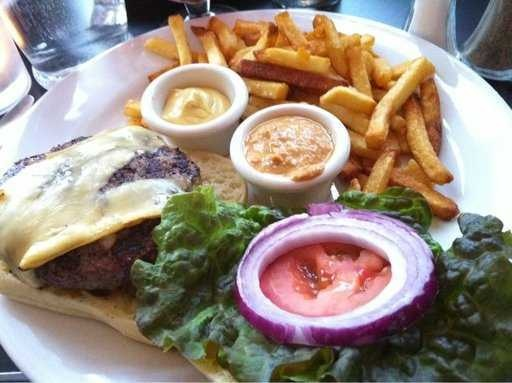hamburger: (1, 122, 224, 301)
